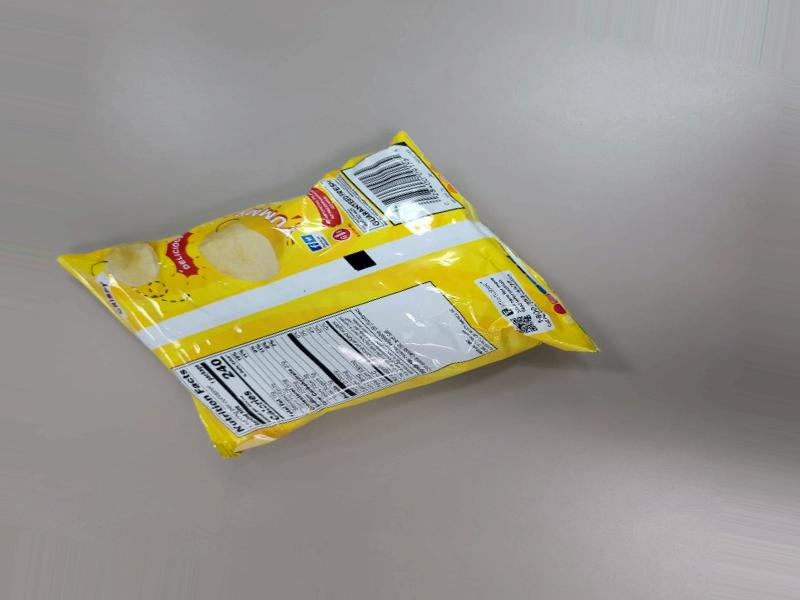lays: (107, 172, 592, 450)
